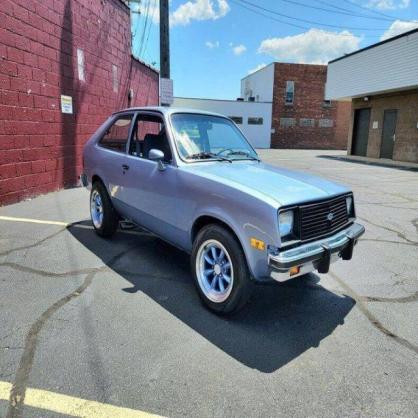car: (82, 105, 366, 318)
